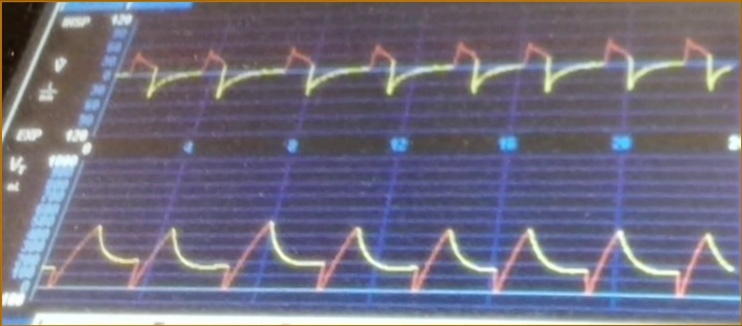Flow: (130, 25, 737, 128)
Leakage Volume: (73, 190, 735, 307)
